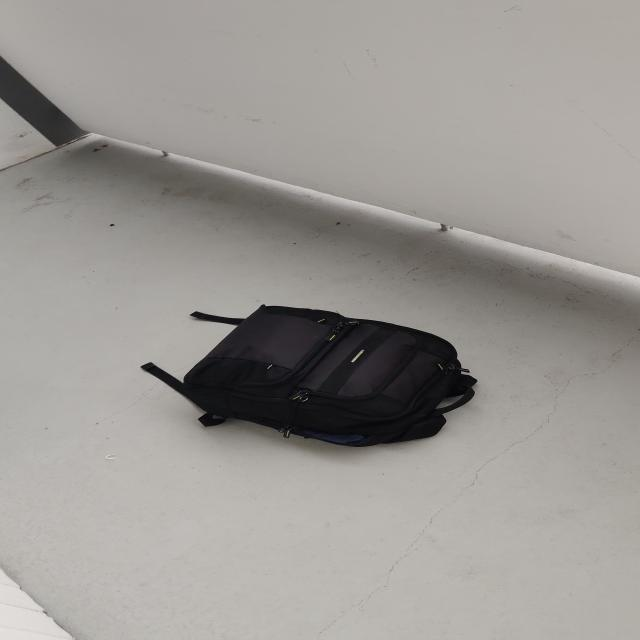backpack: (172, 298, 488, 452)
